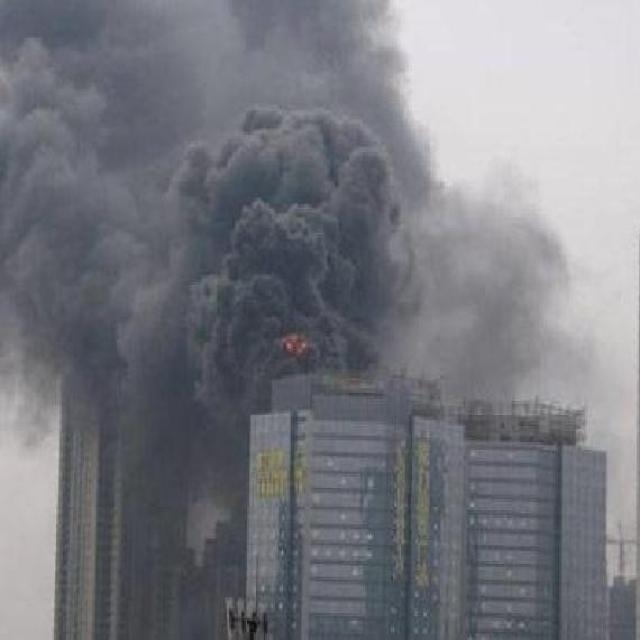Smoke: (1, 1, 597, 514)
